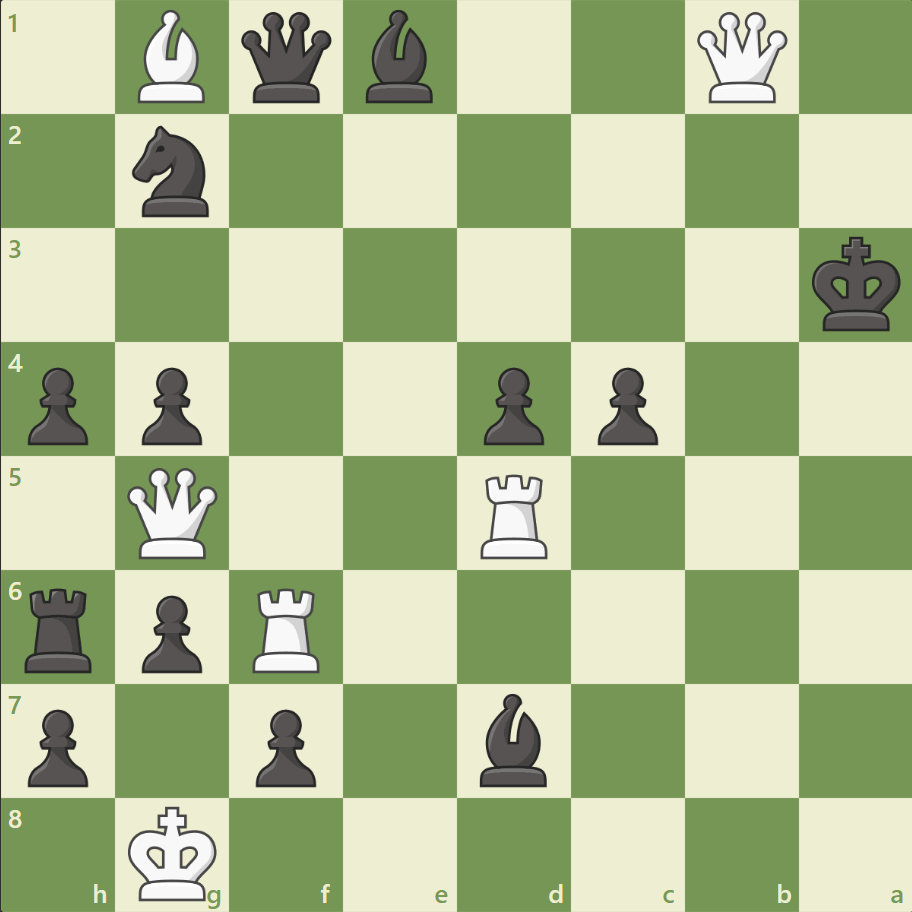B: (131, 6, 215, 109)
K: (124, 798, 224, 906)
Q: (124, 463, 223, 562), (691, 9, 790, 108)
R: (246, 579, 329, 676), (473, 466, 556, 563)
b: (471, 687, 555, 790), (358, 6, 442, 109)
k: (806, 231, 906, 339)
n: (124, 121, 222, 223)
p: (247, 700, 322, 791), (20, 700, 95, 791), (133, 586, 208, 677), (474, 359, 549, 450), (133, 359, 208, 450), (20, 359, 95, 450), (588, 359, 662, 450)
q: (237, 9, 336, 108)
r: (19, 579, 102, 676)
